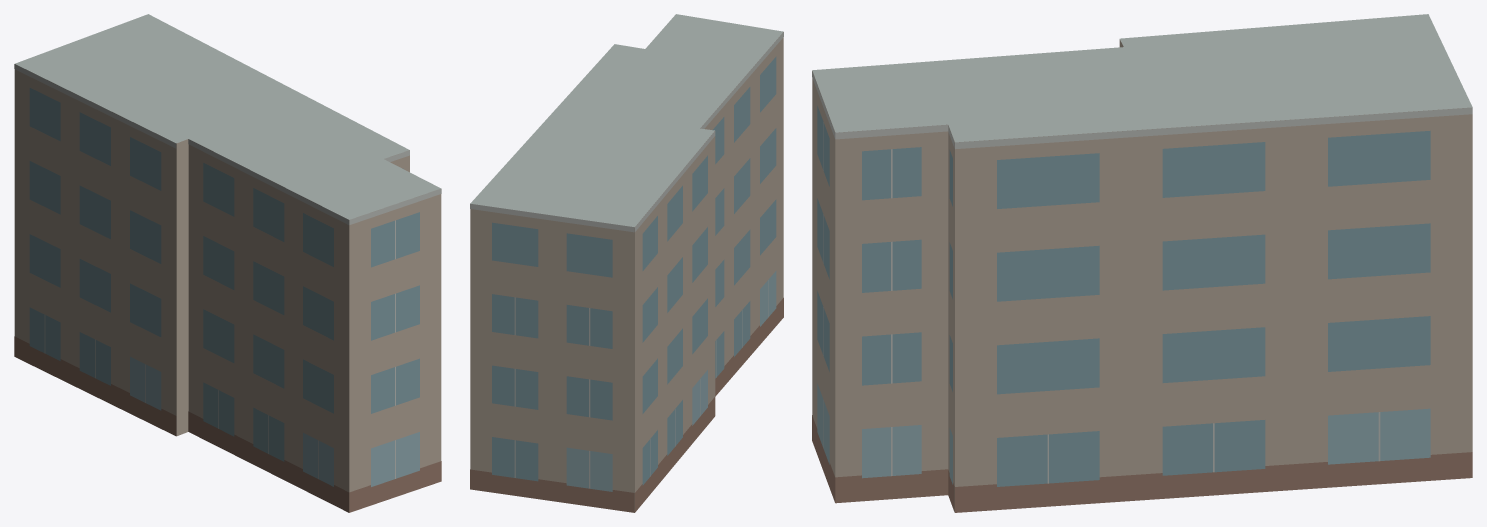
Rendered from survey-upis-32955838.glb.
The picture shows the model from 3 angles, left to right: view 1: azimuth 30°, elevation 25°; view 2: azimuth 150°, elevation 25°; view 3: azimuth 270°, elevation 25°; orthographic projection. The views are drawn at different scales.
Parts seen in each view (by area): view 1: survey-upis-32955838.tmp; view 2: survey-upis-32955838.tmp; view 3: survey-upis-32955838.tmp.
Part boxes in pixels (bbox=[...]): survey-upis-32955838.tmp: bbox=[14, 14, 441, 512]; survey-upis-32955838.tmp: bbox=[470, 14, 783, 512]; survey-upis-32955838.tmp: bbox=[812, 14, 1472, 512].
Bounding box in the file's own units: 9.9 × 13.3 × 21.51.
